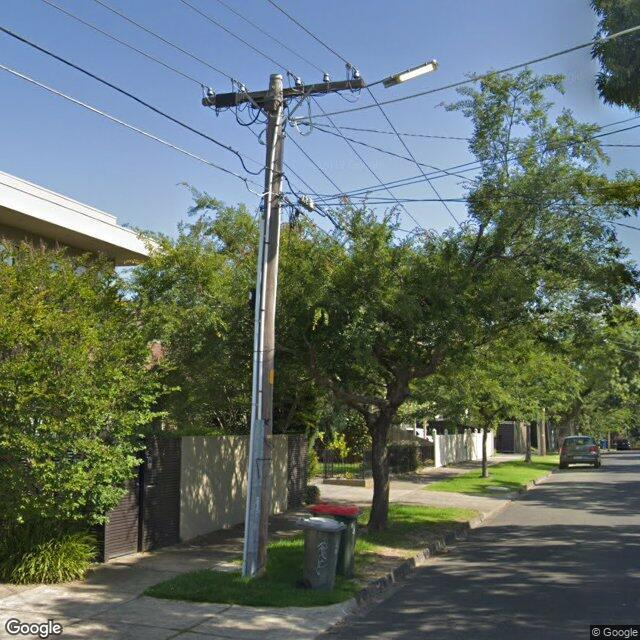crossarm: (200, 62, 364, 126)
streetlight: (364, 58, 440, 90)
timber-pole: (240, 73, 286, 580)
